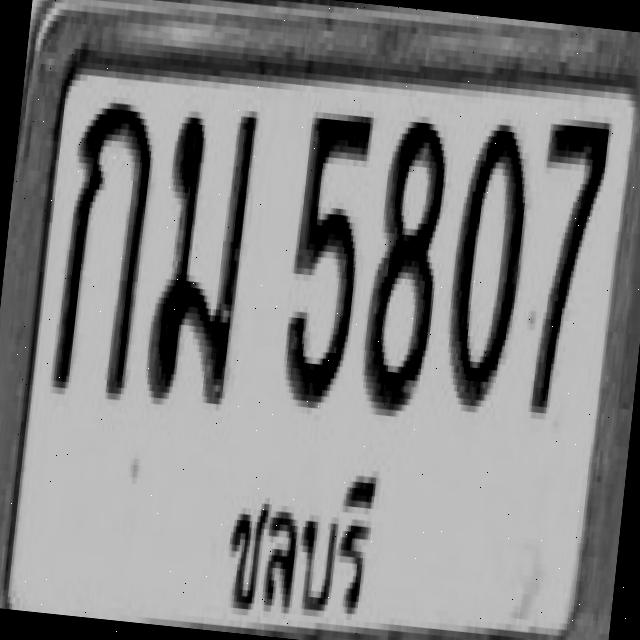0: (440, 111, 536, 412)
10GorGai: (48, 93, 158, 401)
42MorMa: (143, 100, 260, 408)
5: (276, 104, 374, 410)
7: (519, 108, 611, 420)
8: (358, 110, 452, 416)
Chonburi: (206, 449, 387, 634)
